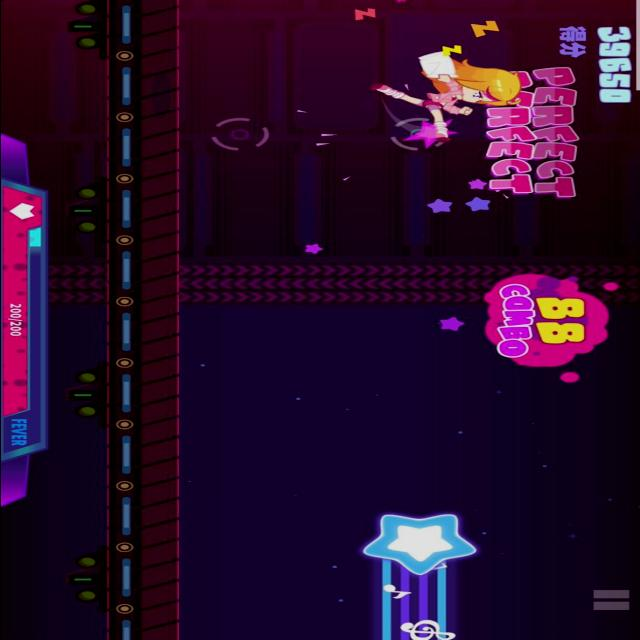hold: (354, 517, 478, 640)
